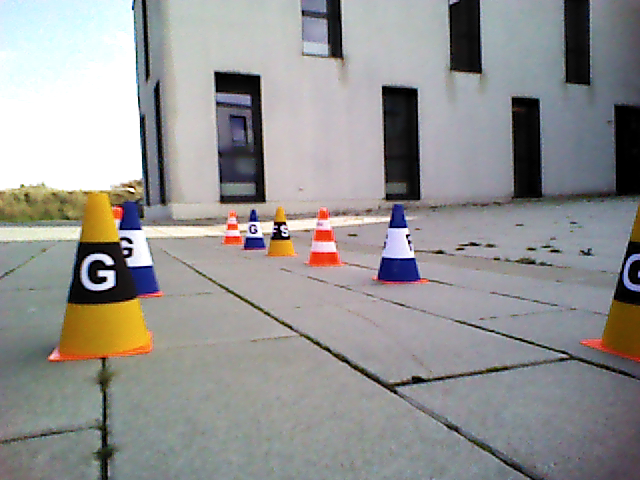bluecone: (381, 202, 421, 281), (128, 203, 158, 293), (246, 209, 265, 247)
orangeconesmall: (311, 207, 341, 264), (224, 209, 244, 243)
yellowcone: (58, 194, 143, 356), (267, 207, 293, 253)
